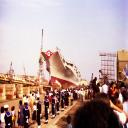Portanaves: (40, 43, 82, 88)
